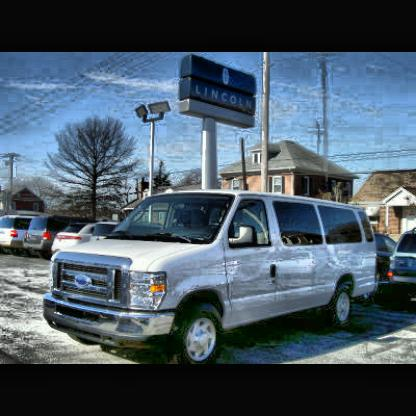Ford E-Series Wagon Van 2012: (44, 194, 380, 365)
